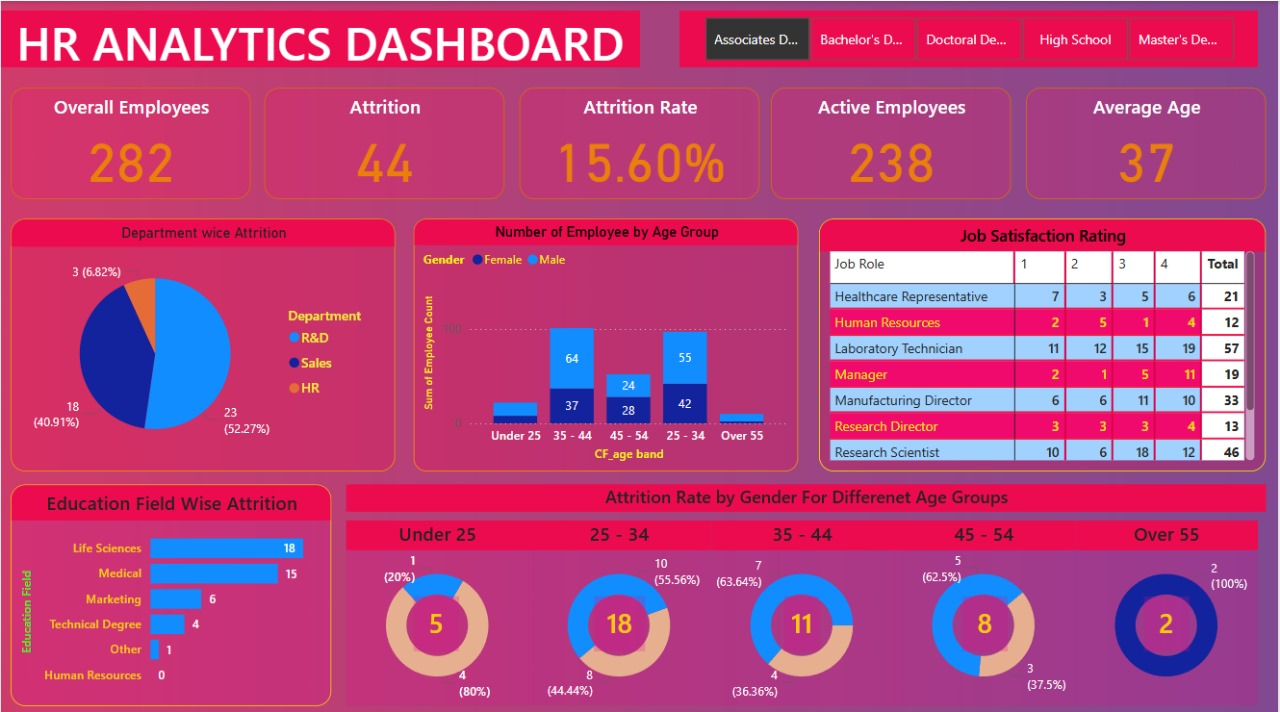

What the dashboard file says about the page in this screenshot:
{"tool":"powerbi","page":{"name":"Page 1","canvas":[1280,720],"ordinal":0},"visuals":[{"type":"card","title":"Overall Employees","fields":{"Values":["Sum(HR data.Employee Count)"]},"box":[9.9,86.5,240.9,112],"z":0},{"type":"card","title":"Attrition","fields":{"Values":["Sum(HR data.AttritionCount)"]},"box":[263.6,86.5,240.9,112],"z":1000},{"type":"card","title":"Attrition Rate","fields":{"Values":["HR data.Attrition Rate"]},"box":[520.2,86.5,240.9,112],"z":2000},{"type":"card","title":"Active Employees","fields":{"Values":["HR data.Active Employees"]},"box":[772.4,86.5,240.9,112],"z":3000},{"type":"card","title":"Average Age","fields":{"Values":["Avg(HR data.Age)"]},"box":[1027.6,86.5,240.9,112],"z":4000},{"type":"pieChart","title":"Department wice Attrition  ","fields":{"Category":["HR data.Department"],"Y":["Sum(HR data.AttritionCount)"]},"box":[9.9,218.3,385.5,253.7],"z":5000},{"type":"columnChart","title":" Number of Employee by Age Group","fields":{"Category":["HR data.CF_age band"],"Y":["Sum(HR data.Employee Count)"],"Series":["HR data.Gender"]},"box":[413.9,218.3,385.5,253.7],"z":6000},{"type":"pivotTable","title":"Job Satisfaction Rating","fields":{"Rows":["HR data.Job Role"],"Columns":["HR data.Job Satisfaction"],"Values":["Sum(HR data.Employee Count)"]},"box":[820.6,218.3,447.9,253.7],"z":7000},{"type":"barChart","title":" Education Field Wise Attrition","fields":{"Category":["HR data.Education Field"],"Y":["Sum(HR data.AttritionCount)"]},"box":[9.9,484.7,321.7,222.5],"z":8000},{"type":"donutChart","title":"Under 25      ","fields":{"Category":["HR data.Gender"],"Y":["Sum(HR data.AttritionCount)"],"Series":["HR data.CF_age band"]},"box":[345.8,521.6,182.8,185.7],"z":9000},{"type":"textbox","title":"Attrition Rate by Gender For Differenet Age Groups","box":[345.8,484.7,922.7,26.9],"z":10000},{"type":"donutChart","title":"25 - 34","fields":{"Category":["HR data.Gender"],"Y":["Sum(HR data.AttritionCount)"],"Series":["HR data.CF_age band"]},"box":[528.7,521.6,182.8,185.7],"z":11000},{"type":"donutChart","title":"35 - 44     ","fields":{"Category":["HR data.Gender"],"Y":["Sum(HR data.AttritionCount)"],"Series":["HR data.CF_age band"]},"box":[711.5,521.6,182.8,185.7],"z":12000},{"type":"donutChart","title":"45 - 54    ","fields":{"Category":["HR data.Gender"],"Y":["Sum(HR data.AttritionCount)"],"Series":["HR data.CF_age band"]},"box":[894.3,521.6,182.8,185.7],"z":13000},{"type":"donutChart","title":"Over 55  ","fields":{"Category":["HR data.Gender"],"Y":["Sum(HR data.AttritionCount)"],"Series":["HR data.CF_age band"]},"box":[1077.2,521.6,182.8,185.7],"z":14000},{"type":"card","fields":{"Values":["Sum(HR data.AttritionCount)"]},"box":[413.9,596.7,45.4,55.3],"z":15000},{"type":"card","fields":{"Values":["Sum(HR data.AttritionCount)"]},"box":[595.3,596.7,51,55.3],"z":16000},{"type":"card","fields":{"Values":["Sum(HR data.AttritionCount)"]},"box":[785.2,596.7,35.4,55.3],"z":17000},{"type":"card","fields":{"Values":["Sum(HR data.AttritionCount)"]},"box":[963.8,596.7,45.4,55.3],"z":18000},{"type":"card","fields":{"Values":["Sum(HR data.AttritionCount)"]},"box":[1146.6,596.7,45.4,55.3],"z":19000},{"type":"textbox","title":" HR ANALYTICS DASHBOARD","box":[0,9.9,640.6,56.7],"z":20000},{"type":"slicer","fields":{"Values":["HR data.Education"]},"box":[680.3,9.9,579.7,56.7],"z":21000}]}

Visuals, with their boxes in screenshot pixels (x1, y1, x2, y2), scaled from the page's 1280x720 canvas onto the 1280x712 screenshot:
"Overall Employees" card: 10:86:251:196
"Attrition" card: 264:86:504:196
"Attrition Rate" card: 520:86:761:196
"Active Employees" card: 772:86:1013:196
"Average Age" card: 1028:86:1268:196
"Department wice Attrition  " pieChart: 10:216:395:467
" Number of Employee by Age Group" columnChart: 414:216:799:467
"Job Satisfaction Rating" pivotTable: 821:216:1268:467
" Education Field Wise Attrition" barChart: 10:479:332:699
"Under 25      " donutChart: 346:516:529:699
"Attrition Rate by Gender For Differenet Age Groups" textbox: 346:479:1268:506
"25 - 34" donutChart: 529:516:712:699
"35 - 44     " donutChart: 712:516:894:699
"45 - 54    " donutChart: 894:516:1077:699
"Over 55  " donutChart: 1077:516:1260:699
card - Sum(HR data.AttritionCount): 414:590:459:645
card - Sum(HR data.AttritionCount): 595:590:646:645
card - Sum(HR data.AttritionCount): 785:590:821:645
card - Sum(HR data.AttritionCount): 964:590:1009:645
card - Sum(HR data.AttritionCount): 1147:590:1192:645
" HR ANALYTICS DASHBOARD" textbox: 0:10:641:66
slicer - HR data.Education: 680:10:1260:66
